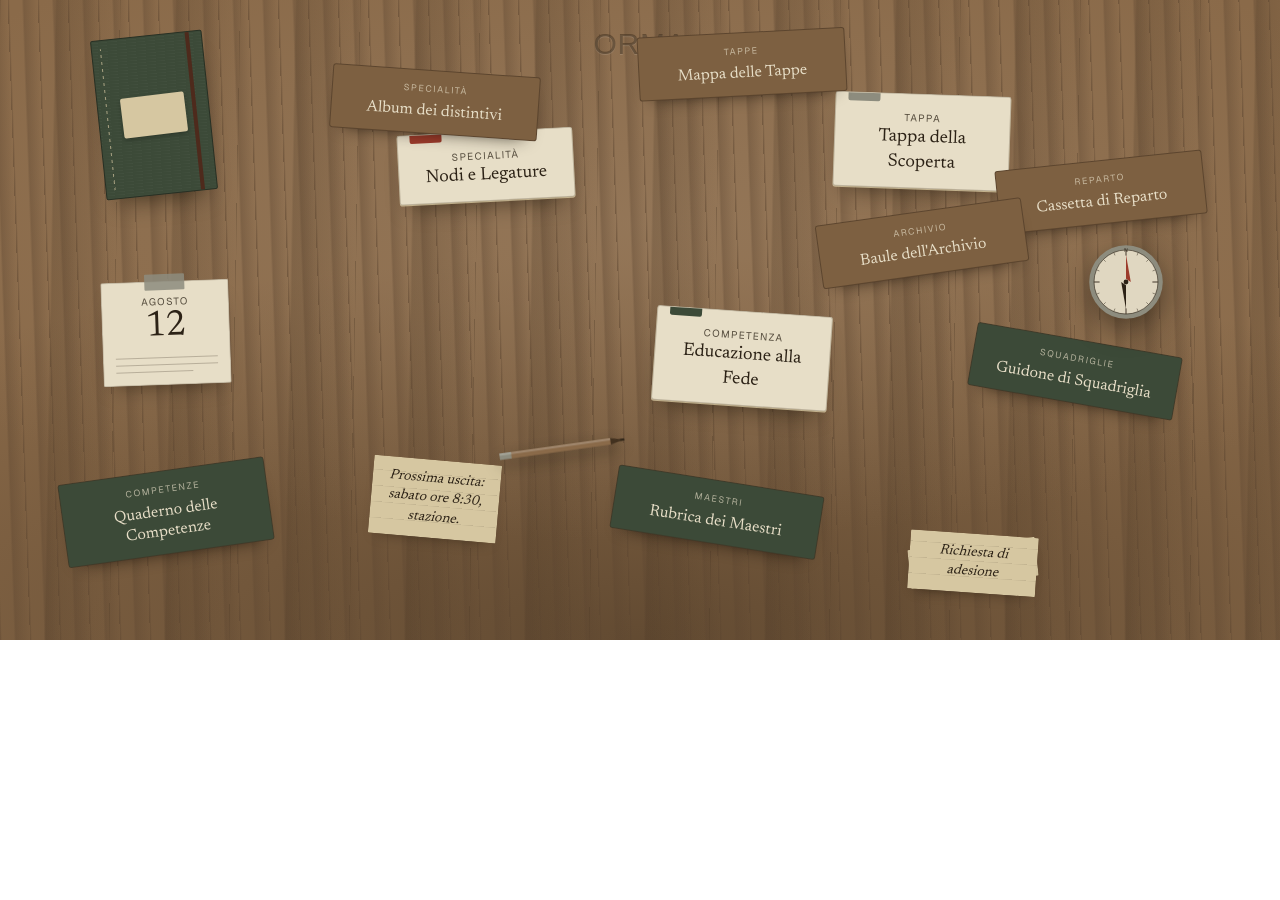
composizione 2D del tavolo › mostra le sezioni nell'ordine previsto da docs/UX.md
The width and height of the screenshot is (1280, 900).
What coordinates should you click on to do the following:
click the button "Specialità Nodi e Legature"
I would click on:
 (486, 166)
Its box is [397,127,576,206].
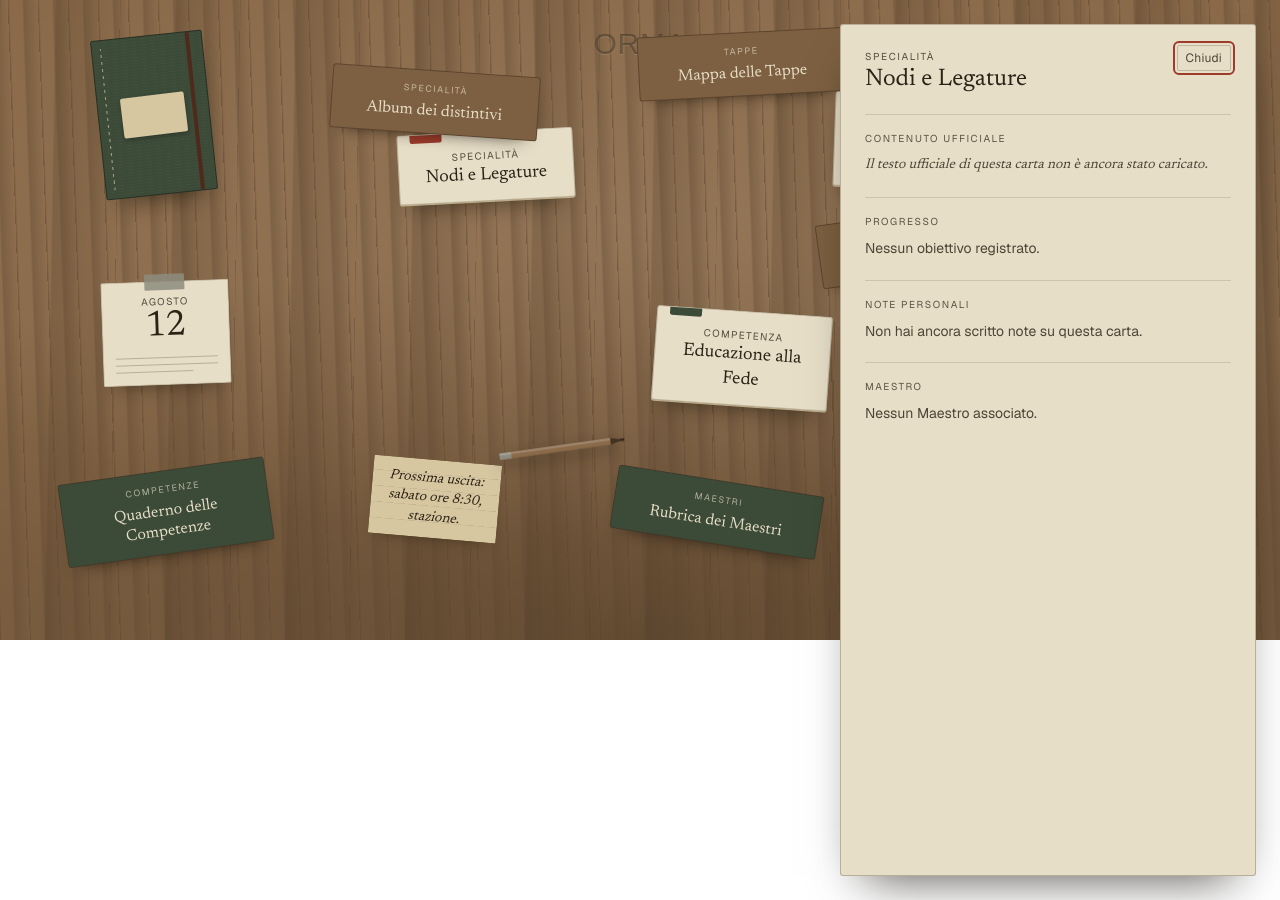
Expected: the headings read "Contenuto ufficiale", "Progresso", "Note personali", "Maestro", in this order, [865,132,1006,145]; [865,215,940,228]; [865,298,970,310]; [865,380,923,393]
